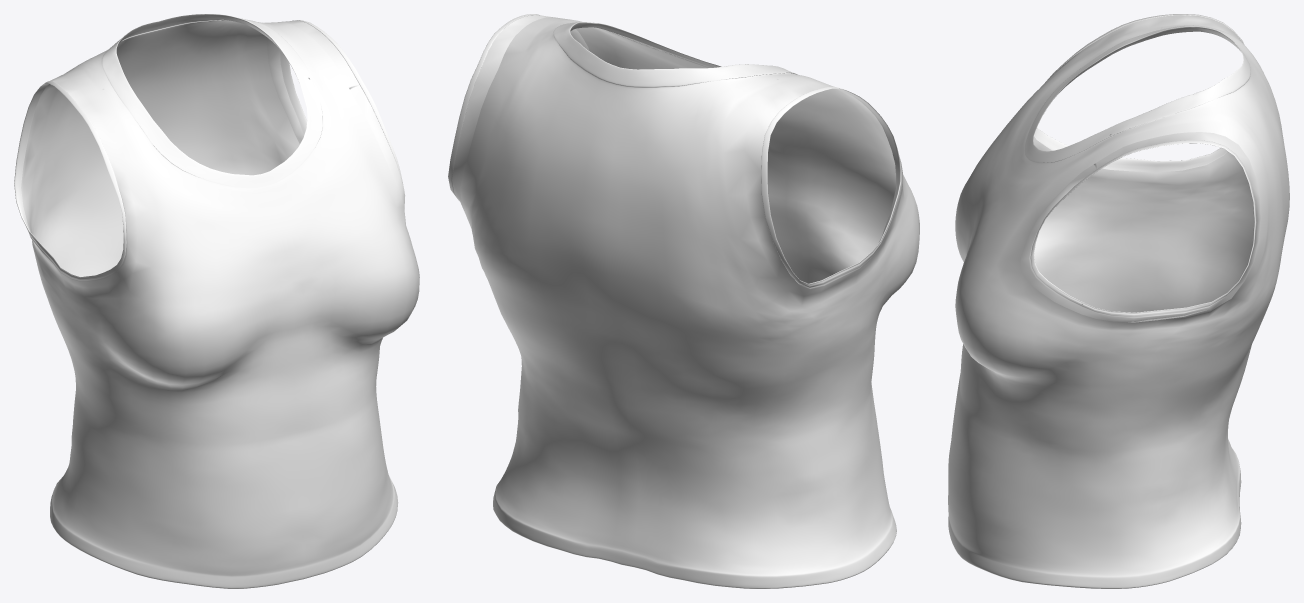
The model's file is Jersey.glb.
3 renders of one model, left to right at view 1: azimuth 30°, elevation 25°; view 2: azimuth 150°, elevation 25°; view 3: azimuth 270°, elevation 25°, orthographic. The views are drawn at different scales.
Parts seen in each view (by area): view 1: Tankini_for_Genesis.002; view 2: Tankini_for_Genesis.002; view 3: Tankini_for_Genesis.002.
Part boxes in pixels (x1,y1,x2,y2): Tankini_for_Genesis.002: (14, 14, 419, 588); Tankini_for_Genesis.002: (448, 14, 919, 588); Tankini_for_Genesis.002: (948, 14, 1289, 588).
Size of the model in its own units: 6.91 by 9.72 by 6.38.
Materials: 1 (1 with a texture image).
